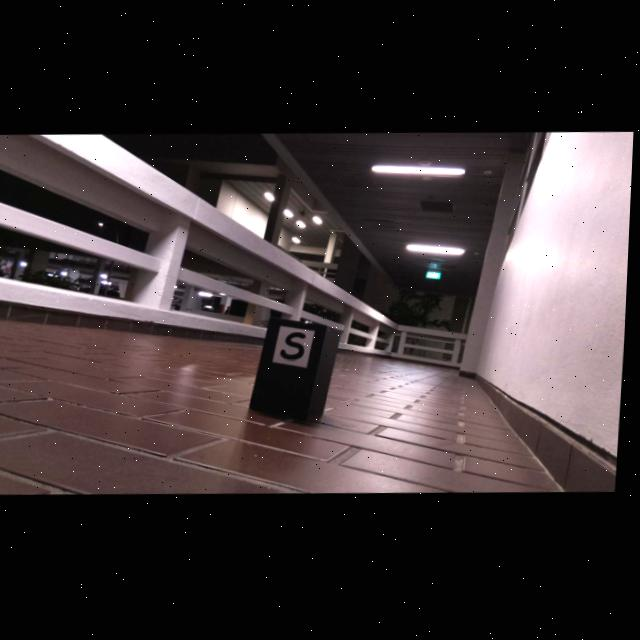S: (284, 334, 309, 361)
